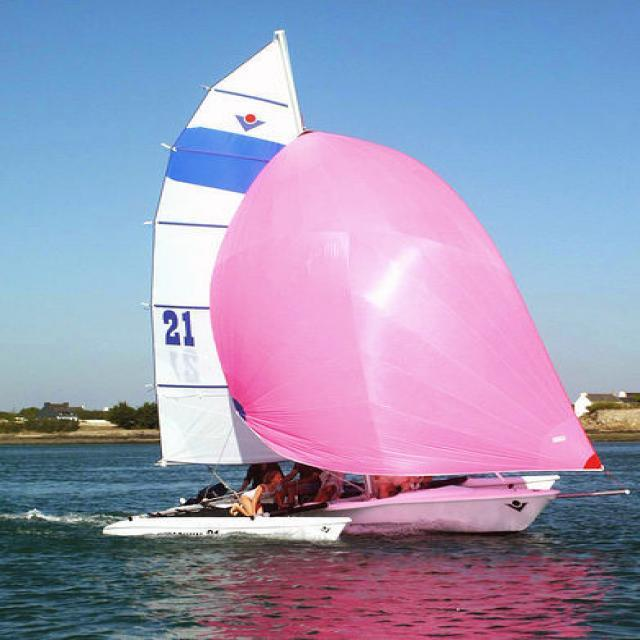Ship: (107, 31, 602, 550)
